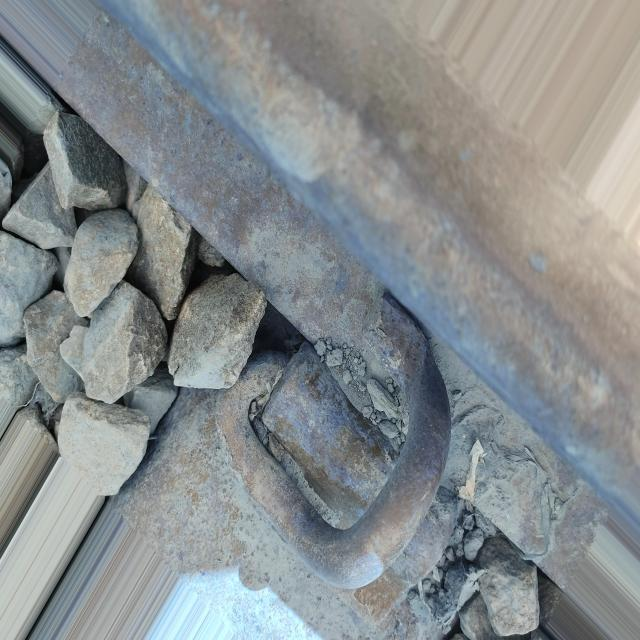Good Fasteners: (191, 272, 488, 612)
